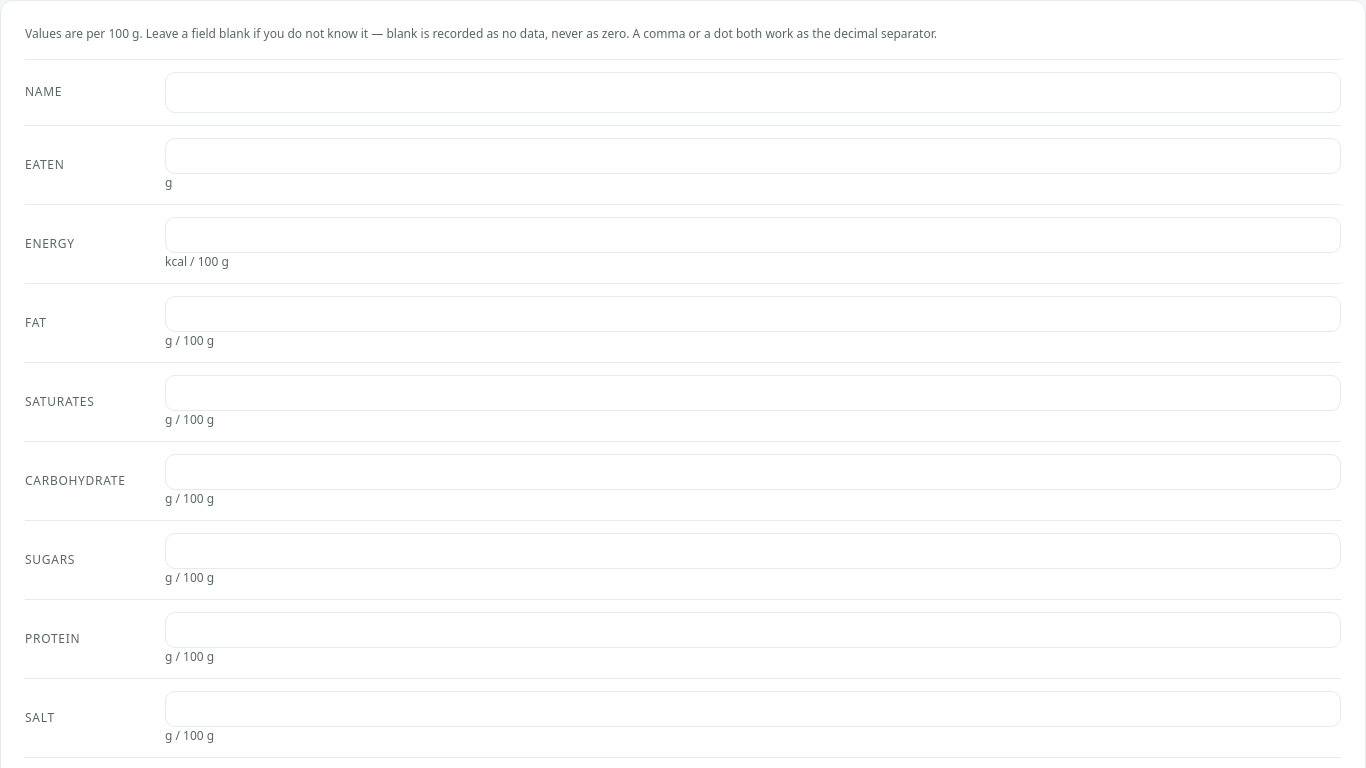
Scenario: FoodForm › blocks submit on letters in the amount eaten
This screenshot has width=1366, height=768.
Type "Apple" into the field with id "food-name" at {"x": 753, "y": 92}, box [165,72,1341,112]
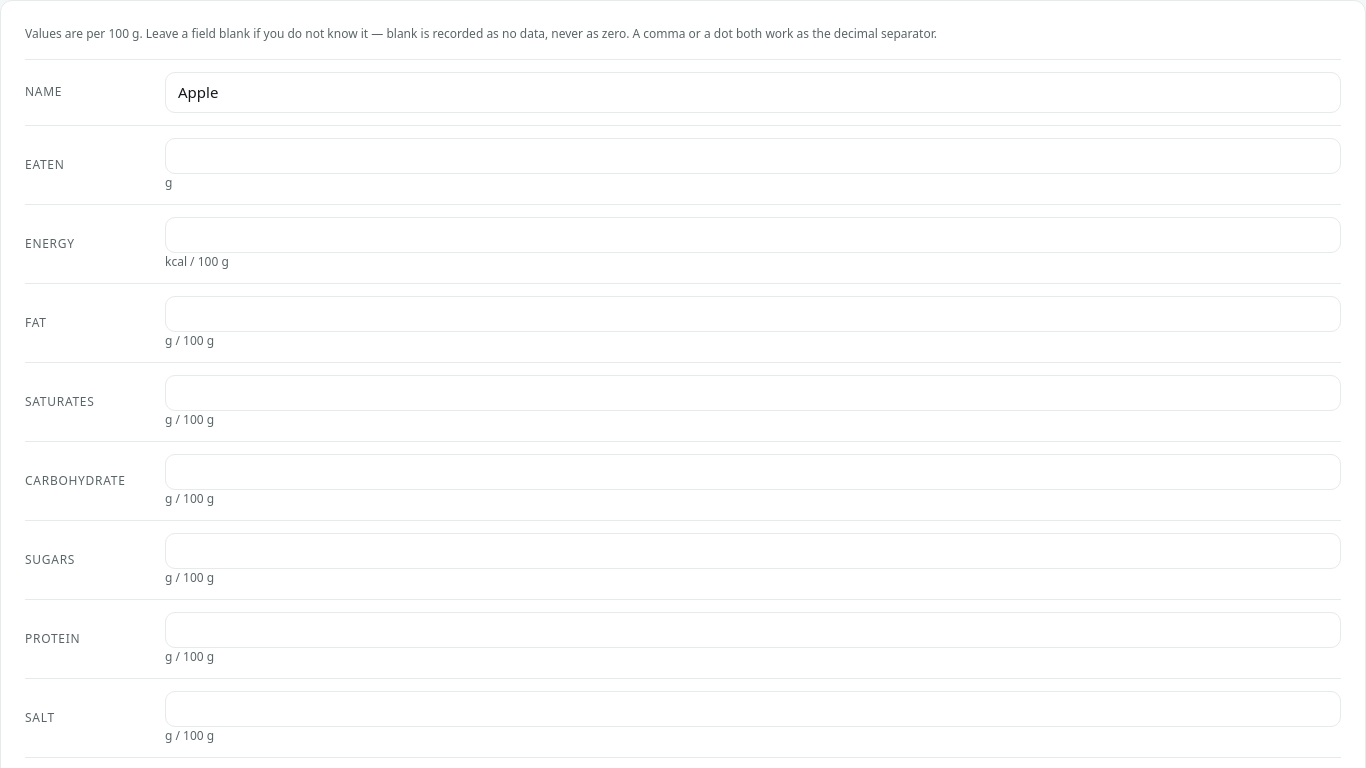
Type "abc" into the field with id "food-grams" at {"x": 753, "y": 156}, box [165,138,1341,174]
(page scrolled)
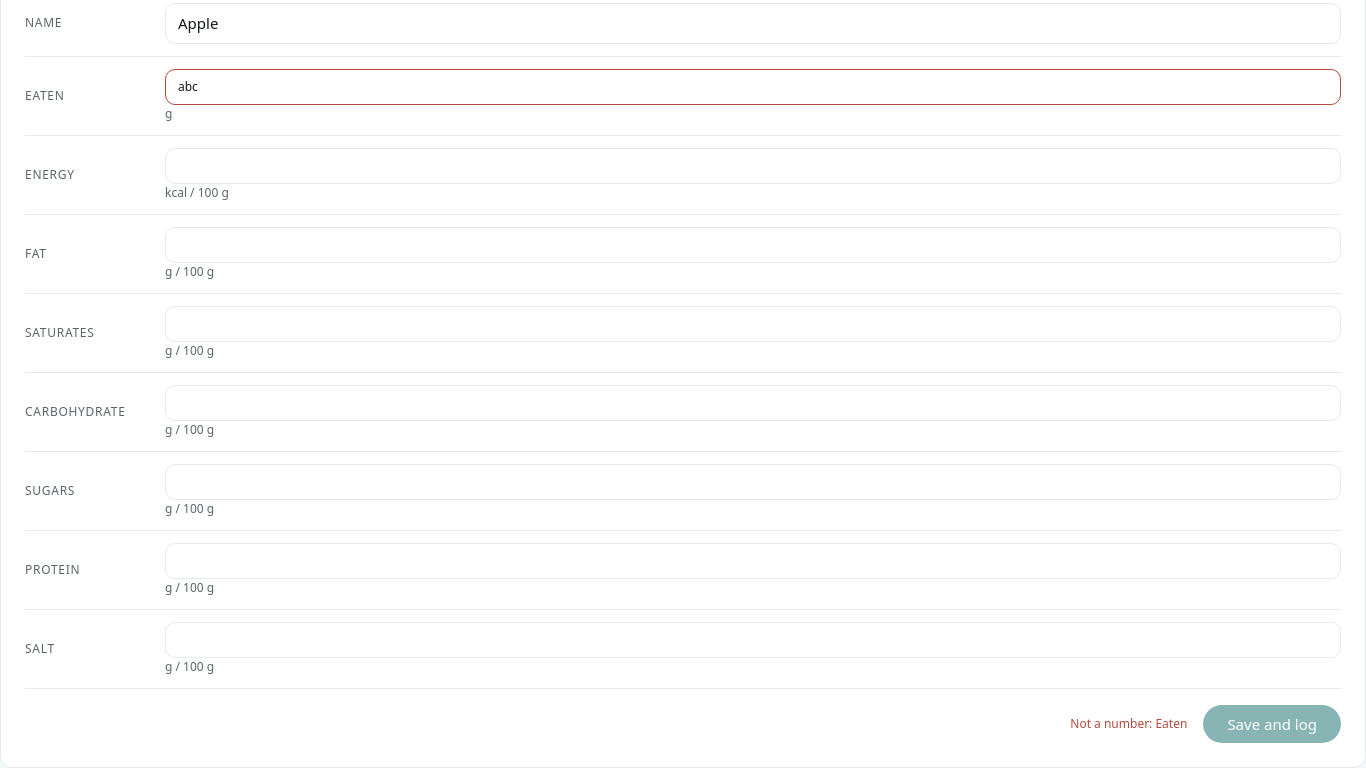
Expected: the submit button is disabled, [1203,704,1341,743]
Now the text "Not a number: Eaten" is shown, box [1070,715,1187,733]
